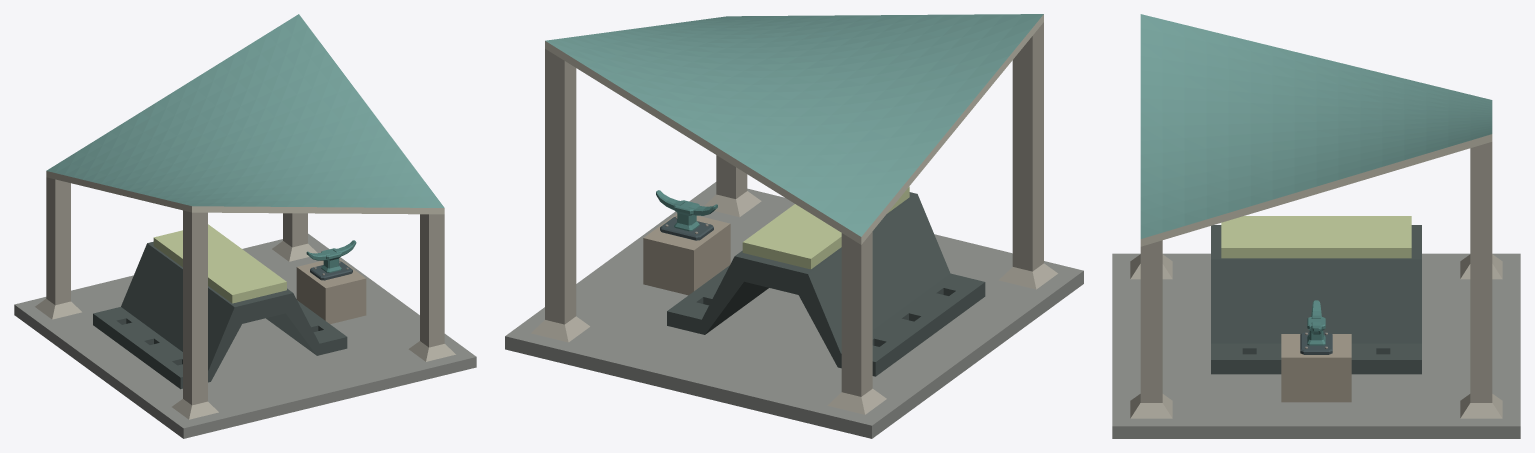
3 renders of one model, left to right at view 1: azimuth 30°, elevation 25°; view 2: azimuth 150°, elevation 25°; view 3: azimuth 270°, elevation 25°, orthographic. The views are drawn at different scales.
Parts seen in each view (by area): view 1: WholePavilion__WholeDoublyRuledSaddleShell, WholeSceneOnlyLowInspectionFloor, WholeFender__WholeHollowArchWithBothSixPortMountingFlanges, WholePavilion__WholeUnequalCornerColumn_0_0, WholeFender__WholeContinuousCrownWearPad, WholePavilion__WholeUnequalCornerColumn_15_0, WholePavilion__WholeUnequalCornerColumn_0_15, WholeSceneOnlyBollardDais, WholePavilion__WholeUnequalCornerColumn_15_15; view 2: WholePavilion__WholeDoublyRuledSaddleShell, WholeSceneOnlyLowInspectionFloor, WholeFender__WholeHollowArchWithBothSixPortMountingFlanges, WholePavilion__WholeUnequalCornerColumn_15_15, WholePavilion__WholeUnequalCornerColumn_0_0, WholePavilion__WholeUnequalCornerColumn_0_15, WholeSceneOnlyBollardDais, WholeFender__WholeContinuousCrownWearPad, WholePavilion__WholeUnequalCornerColumn_15_0, WholeBollardDisplay__Base_FlatChamferedFoot, WholeBollardDisplay__Post_FlaredShoulder; view 3: WholePavilion__WholeDoublyRuledSaddleShell, WholeSceneOnlyLowInspectionFloor, WholeFender__WholeHollowArchWithBothSixPortMountingFlanges, WholeFender__WholeContinuousCrownWearPad, WholePavilion__WholeUnequalCornerColumn_15_15, WholePavilion__WholeUnequalCornerColumn_15_0, WholeSceneOnlyBollardDais, WholeBollardDisplay__Base_FlatChamferedFoot, WholePavilion__WholeUnequalCornerColumn_0_0, WholePavilion__WholeUnequalCornerColumn_0_15, WholeBollardDisplay__Post_FlaredShoulder.
Boxes of the visible parts, x1,y1,x2,y2 form: WholePavilion__WholeDoublyRuledSaddleShell: [46, 14, 444, 214]; WholeSceneOnlyLowInspectionFloor: [14, 233, 476, 438]; WholeFender__WholeHollowArchWithBothSixPortMountingFlanges: [93, 241, 347, 389]; WholePavilion__WholeUnequalCornerColumn_0_0: [172, 210, 218, 419]; WholeFender__WholeContinuousCrownWearPad: [153, 224, 286, 303]; WholePavilion__WholeUnequalCornerColumn_15_0: [408, 214, 455, 361]; WholePavilion__WholeUnequalCornerColumn_0_15: [35, 177, 81, 319]; WholeSceneOnlyBollardDais: [296, 259, 366, 324]; WholePavilion__WholeUnequalCornerColumn_15_15: [272, 213, 317, 261]; WholePavilion__WholeDoublyRuledSaddleShell: [545, 14, 1043, 244]; WholeSceneOnlyLowInspectionFloor: [505, 182, 1083, 438]; WholeFender__WholeHollowArchWithBothSixPortMountingFlanges: [667, 192, 985, 376]; WholePavilion__WholeUnequalCornerColumn_15_15: [531, 49, 589, 342]; WholePavilion__WholeUnequalCornerColumn_0_0: [999, 22, 1057, 289]; WholePavilion__WholeUnequalCornerColumn_0_15: [827, 231, 886, 414]; WholeSceneOnlyBollardDais: [643, 213, 730, 295]; WholeFender__WholeContinuousCrownWearPad: [742, 186, 909, 269]; WholePavilion__WholeUnequalCornerColumn_15_0: [704, 155, 761, 217]; WholeBollardDisplay__Base_FlatChamferedFoot: [660, 216, 713, 240]; WholeBollardDisplay__Post_FlaredShoulder: [673, 200, 699, 231]; WholePavilion__WholeDoublyRuledSaddleShell: [1140, 14, 1492, 246]; WholeSceneOnlyLowInspectionFloor: [1112, 253, 1520, 438]; WholeFender__WholeHollowArchWithBothSixPortMountingFlanges: [1211, 225, 1421, 374]; WholeFender__WholeContinuousCrownWearPad: [1221, 216, 1411, 258]; WholePavilion__WholeUnequalCornerColumn_15_15: [1460, 142, 1502, 418]; WholePavilion__WholeUnequalCornerColumn_15_0: [1130, 240, 1172, 418]; WholeSceneOnlyBollardDais: [1281, 334, 1351, 402]; WholeBollardDisplay__Base_FlatChamferedFoot: [1300, 332, 1332, 354]; WholePavilion__WholeUnequalCornerColumn_0_0: [1130, 254, 1172, 279]; WholePavilion__WholeUnequalCornerColumn_0_15: [1460, 254, 1502, 279]; WholeBollardDisplay__Post_FlaredShoulder: [1307, 317, 1325, 345].
Bounding box in the file's own units: 5.8 × 4.59 × 5.8.
